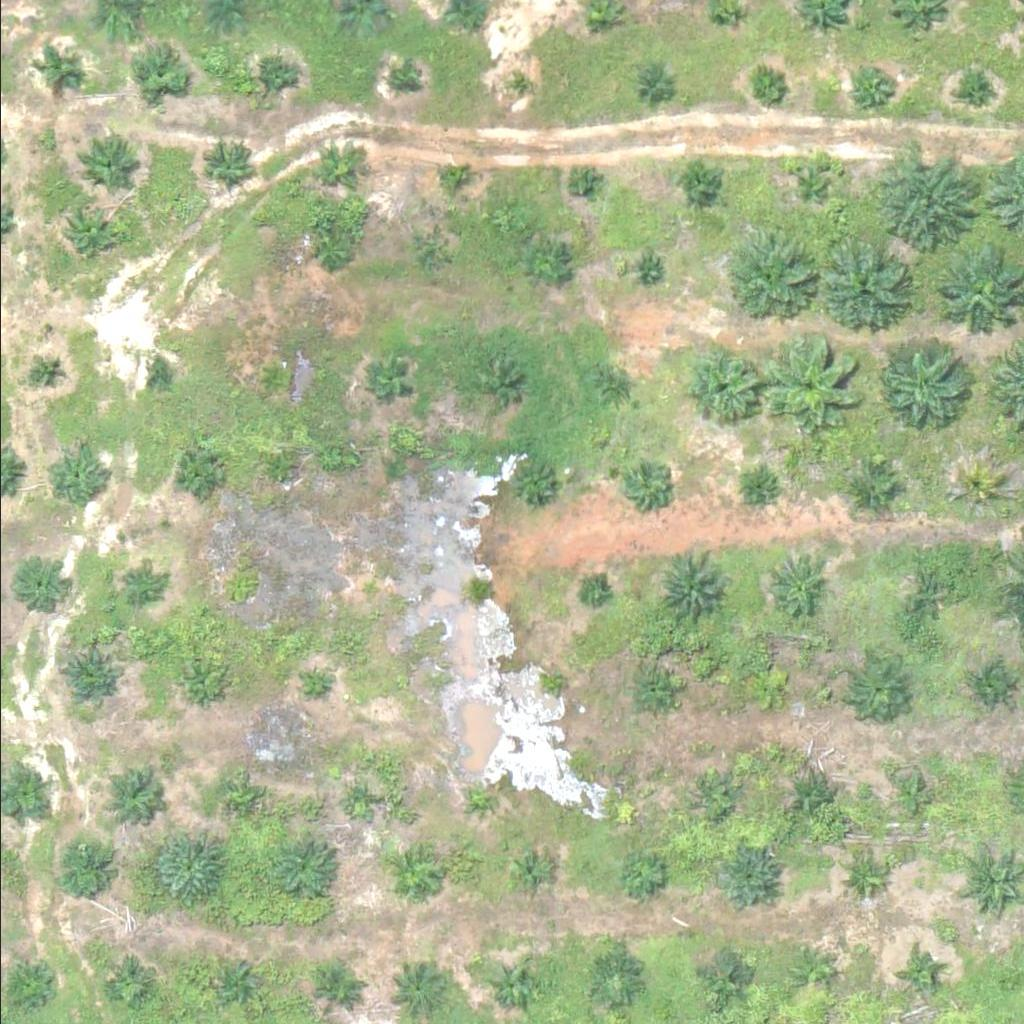Kelapa_Sawit: (765, 336, 866, 436), (873, 154, 974, 254), (677, 343, 765, 431), (728, 234, 816, 322), (820, 246, 908, 334), (933, 253, 1021, 341), (888, 343, 976, 430), (265, 828, 341, 903), (47, 832, 123, 907), (151, 832, 227, 907), (653, 549, 729, 624), (105, 761, 168, 824), (59, 646, 122, 709), (952, 847, 1015, 910), (716, 849, 779, 912), (881, 764, 944, 827), (58, 200, 121, 263), (843, 657, 906, 719), (764, 557, 827, 619), (44, 444, 107, 506), (894, 561, 957, 623), (76, 134, 139, 196), (305, 230, 356, 280), (12, 560, 63, 610), (175, 450, 226, 500), (589, 956, 640, 1006), (707, 954, 758, 1004), (785, 774, 836, 824), (842, 850, 893, 900), (691, 775, 742, 825), (964, 654, 1015, 704), (745, 663, 796, 713), (618, 851, 669, 901), (486, 961, 537, 1011), (311, 143, 362, 193), (10, 958, 60, 1008), (106, 957, 156, 1007), (848, 464, 898, 514), (385, 850, 435, 900), (788, 947, 838, 997), (625, 669, 675, 719), (220, 959, 270, 1009), (315, 964, 365, 1014), (502, 846, 552, 896), (241, 51, 291, 101), (132, 49, 182, 99), (199, 138, 249, 188), (619, 458, 669, 508), (505, 461, 555, 511), (366, 358, 416, 408), (473, 358, 523, 408), (587, 365, 637, 415), (517, 238, 567, 288), (677, 157, 727, 207), (948, 465, 998, 515), (786, 160, 836, 210), (850, 65, 900, 115), (119, 563, 157, 601), (901, 956, 939, 994), (39, 48, 77, 86), (176, 668, 214, 705), (28, 355, 66, 392), (253, 359, 290, 397), (408, 233, 445, 271), (956, 70, 994, 107), (752, 72, 790, 109), (258, 452, 296, 489), (629, 68, 666, 105), (580, 578, 606, 603), (224, 790, 250, 815), (470, 783, 495, 808), (342, 788, 367, 813), (299, 671, 324, 696), (543, 671, 568, 696), (144, 361, 169, 386), (571, 169, 596, 194), (441, 162, 466, 187), (502, 74, 527, 99), (390, 68, 415, 93), (745, 479, 770, 504), (354, 577, 379, 602), (635, 257, 660, 281)
